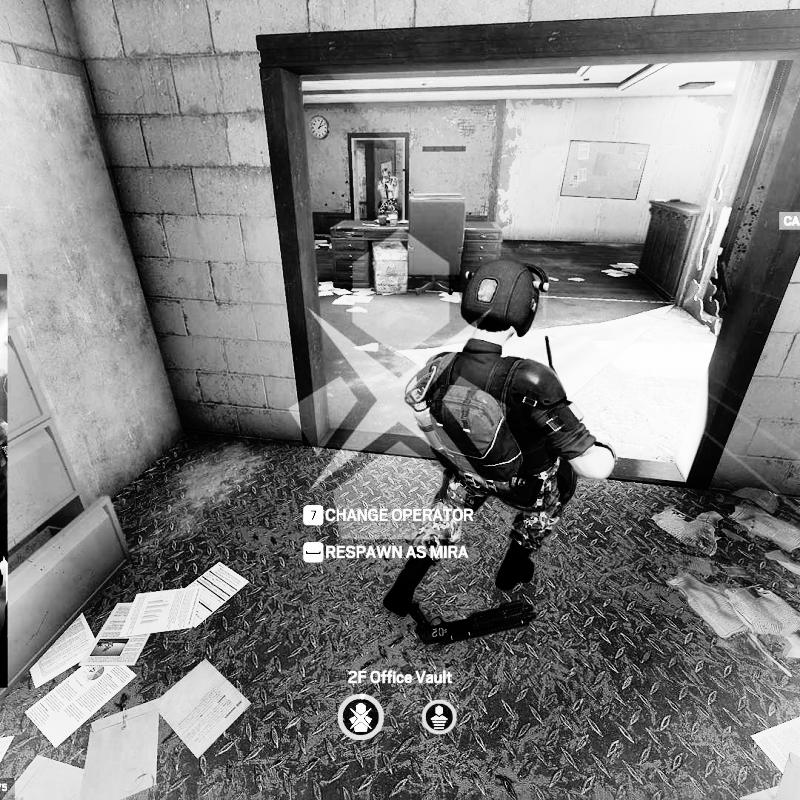Character: (382, 258, 618, 618), (376, 168, 400, 216)
Head: (460, 259, 548, 351), (381, 168, 392, 178)
